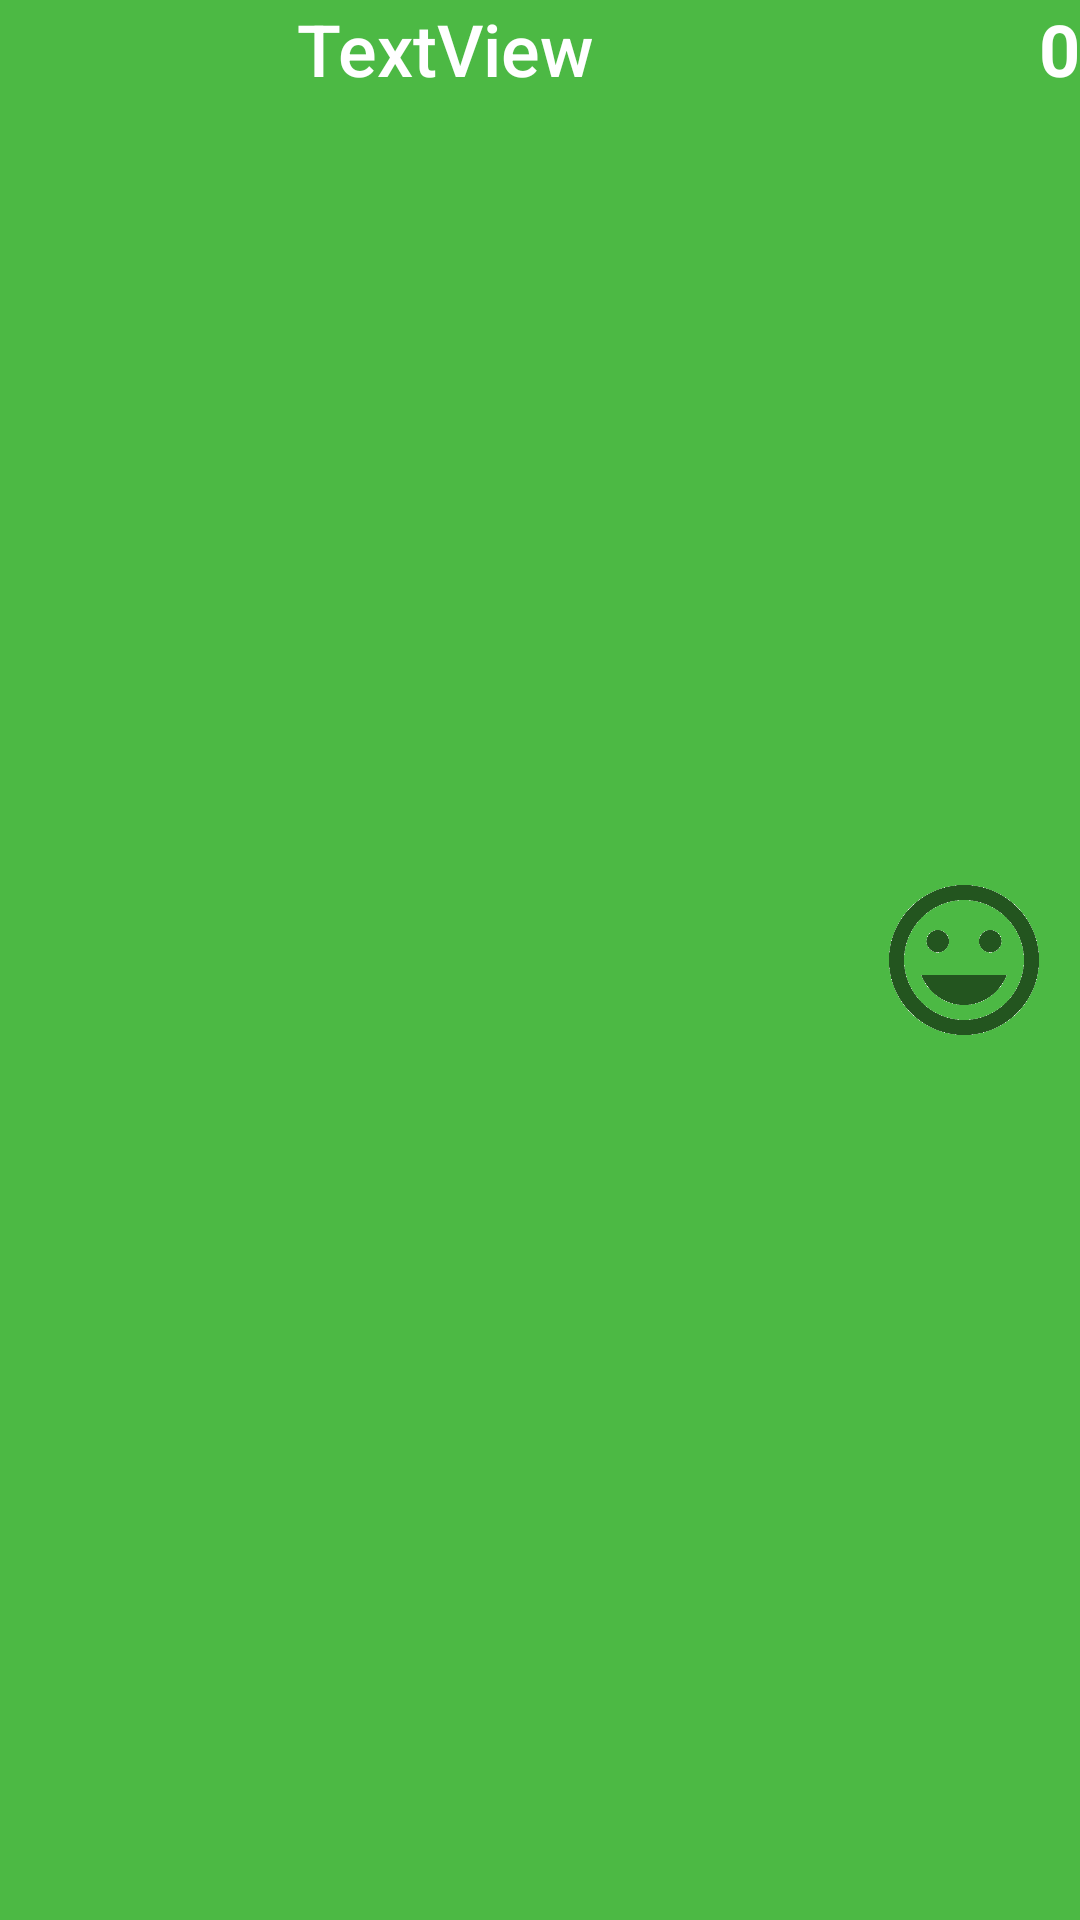

Icon click points for this 1080*1920 phone screenshot, format (x=x, y=y):
happy face liked: (x=964, y=960)
